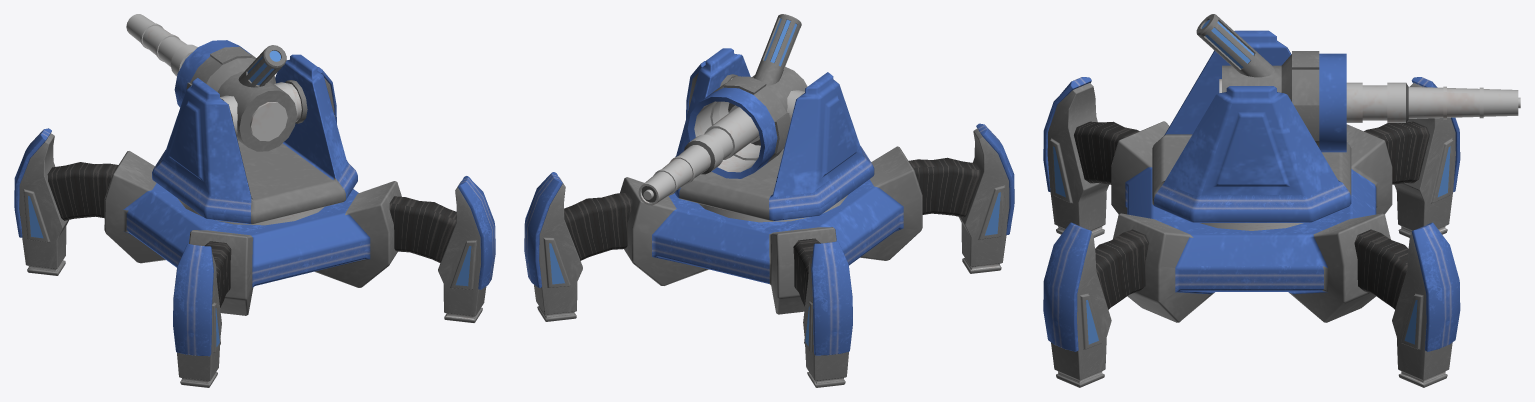
Rendered from SM_UPF-Cannon_AVPC-90_Cannon.fbx.
The picture shows the model from 3 angles, left to right: view 1: azimuth 30°, elevation 25°; view 2: azimuth 150°, elevation 25°; view 3: azimuth 270°, elevation 25°; orthographic projection. The views are drawn at different scales.
Visible parts, largest first — view 1: Cube.010, Cube.002, Cube.013, Cylinder.001, Cube.014, Cube.009, Cylinder.007, Cylinder.002, Cylinder; view 2: Cube.010, Cube.002, Cylinder.001, Cube.013, Cube.014, Cube.009, Cylinder; view 3: Cube.010, Cube.002, Cube.013, Cylinder.001, Cube.014, Cube.009, Cylinder.
Part boxes in pixels (x1,y1,x2,y2): Cube.010: (104, 151, 401, 315); Cube.002: (152, 54, 357, 224); Cube.013: (19, 78, 486, 387); Cylinder.001: (126, 14, 296, 151); Cube.014: (47, 162, 456, 307); Cube.009: (14, 67, 495, 356); Cylinder.007: (250, 102, 287, 141); Cylinder.002: (220, 80, 307, 138); Cylinder: (178, 199, 323, 225); Cube.010: (620, 146, 922, 314); Cube.002: (674, 48, 874, 221); Cylinder.001: (638, 14, 807, 205); Cube.013: (534, 73, 1009, 387); Cube.014: (564, 157, 980, 306); Cube.009: (524, 61, 1014, 355); Cylinder: (698, 195, 847, 222); Cube.010: (1111, 121, 1392, 322); Cube.002: (1152, 30, 1351, 222); Cube.013: (1047, 83, 1455, 387); Cylinder.001: (1196, 14, 1520, 152); Cube.014: (1074, 121, 1429, 309); Cube.009: (1043, 77, 1460, 351); Cylinder: (1200, 223, 1303, 230).
Size of the model in its own units: 1340 by 1029 by 1534.
